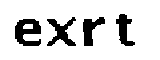e: (10, 16, 45, 50)
r: (77, 15, 107, 52)
t: (112, 12, 138, 52)
x: (45, 17, 78, 48)
